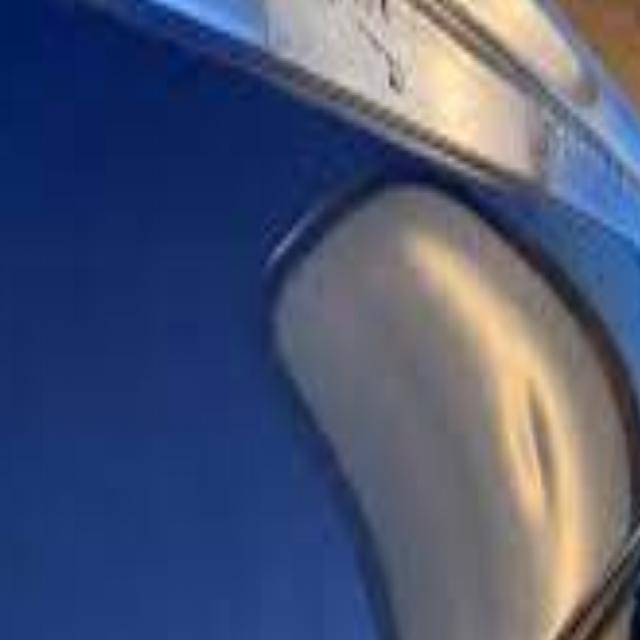dents: (496, 350, 574, 531)
